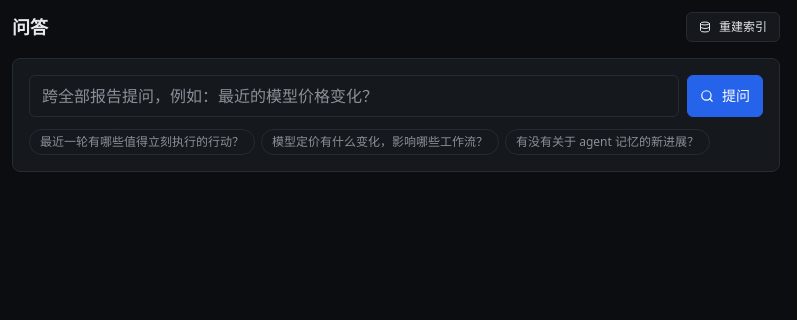
Test case: AskPage › warns when retrieval returned no citations
Type "库里没有的东西" into the field with placeholder "跨全部报告提问，例如：最近的模型价格变化？" at [354, 96], box [29,75,679,117]
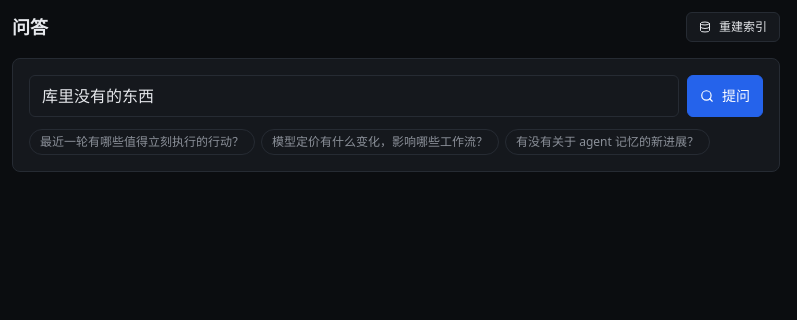
Click the button "提问" at [725, 96], box [687,75,763,117]
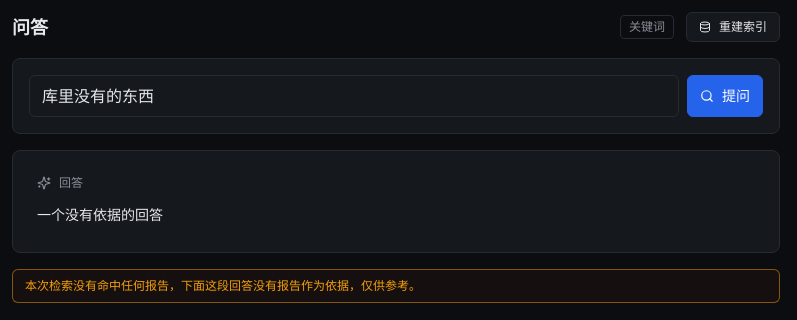
Result: the text "本次检索没有命中任何报告，下面这段回答没有报告作为依据，仅供参考。" is shown at [12,268,780,302]
